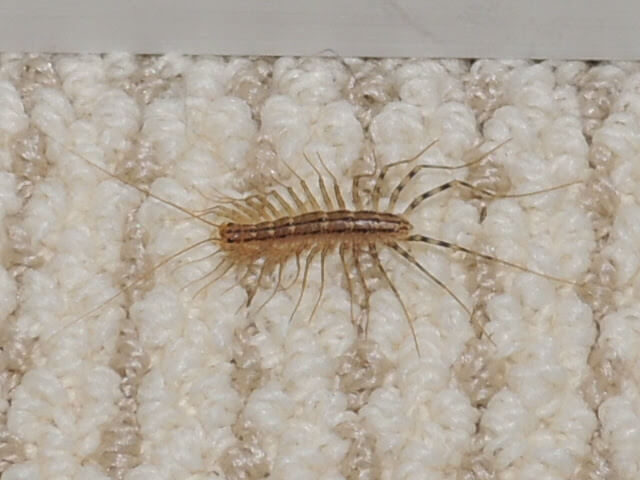centipede: (146, 138, 616, 352)
